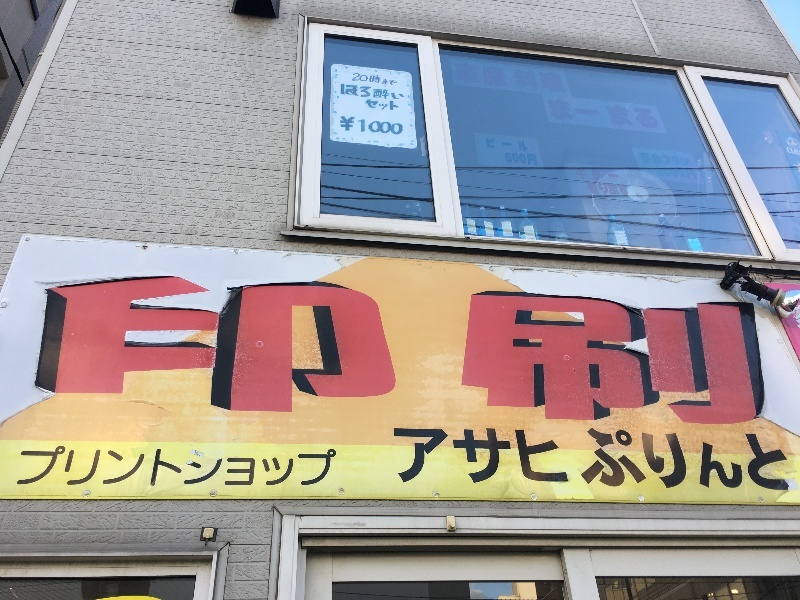text: (49, 272, 64, 429), (65, 272, 80, 429), (81, 272, 96, 429), (97, 272, 112, 429), (113, 272, 128, 429), (129, 272, 144, 429), (145, 272, 160, 429), (161, 272, 176, 429), (177, 272, 192, 429), (193, 272, 208, 429), (209, 272, 224, 429), (225, 272, 240, 429), (241, 272, 256, 429), (257, 272, 272, 429), (273, 272, 288, 429), (289, 272, 304, 429), (305, 272, 320, 429), (321, 272, 336, 429), (337, 272, 352, 429), (353, 272, 368, 429), (369, 272, 384, 429), (385, 272, 400, 429), (401, 272, 416, 429), (417, 272, 432, 429), (433, 272, 448, 429), (449, 272, 464, 429), (465, 272, 480, 429), (481, 272, 496, 429), (497, 272, 512, 429), (513, 272, 528, 429), (529, 272, 544, 429), (545, 272, 560, 429), (561, 272, 576, 429), (577, 272, 592, 429), (593, 272, 608, 429), (609, 272, 624, 429), (625, 272, 640, 429), (641, 272, 656, 429), (657, 272, 672, 429), (673, 272, 688, 429), (689, 272, 704, 429), (705, 272, 720, 429), (721, 272, 736, 429), (737, 272, 752, 429), (753, 272, 768, 429), (401, 428, 416, 493), (417, 428, 432, 493), (433, 428, 448, 493), (449, 428, 464, 493), (465, 428, 480, 493), (481, 428, 496, 493), (497, 428, 512, 493), (513, 428, 528, 493), (529, 428, 544, 493), (545, 428, 560, 493), (561, 428, 576, 493), (577, 428, 592, 493), (593, 428, 608, 493), (609, 428, 624, 493), (625, 428, 640, 493), (641, 428, 656, 493), (657, 428, 672, 493), (673, 428, 688, 493), (689, 428, 704, 493), (705, 428, 720, 493), (721, 428, 736, 493), (737, 428, 752, 493), (753, 428, 768, 493), (769, 428, 784, 493), (33, 446, 48, 487), (49, 446, 64, 487), (65, 446, 80, 487), (81, 446, 96, 487), (97, 446, 112, 487), (113, 446, 128, 487), (129, 446, 144, 487), (145, 446, 160, 487), (161, 446, 176, 487), (177, 446, 192, 487), (193, 446, 208, 487), (209, 446, 224, 487), (225, 446, 240, 487), (241, 446, 256, 487), (257, 446, 272, 487), (273, 446, 288, 487), (289, 446, 304, 487), (305, 446, 320, 487), (321, 446, 336, 487), (465, 62, 480, 93), (481, 62, 496, 93), (497, 62, 512, 93), (513, 62, 528, 93), (529, 62, 544, 93), (545, 62, 560, 93), (561, 99, 576, 129), (577, 99, 592, 129), (593, 99, 608, 129), (609, 99, 624, 129), (625, 99, 640, 129), (641, 99, 656, 129), (641, 153, 656, 180), (657, 153, 672, 180), (673, 153, 688, 180), (394, 428, 400, 493), (23, 446, 32, 487), (548, 99, 560, 129), (785, 428, 790, 493), (353, 116, 368, 136), (369, 116, 384, 136), (385, 116, 400, 136), (455, 62, 464, 93), (353, 84, 368, 101), (369, 84, 384, 101), (385, 84, 400, 101), (786, 139, 800, 157), (689, 153, 698, 180), (340, 116, 352, 136), (513, 153, 528, 167), (593, 182, 608, 196), (609, 182, 624, 196), (513, 138, 529, 151), (353, 73, 368, 86), (369, 73, 384, 86), (497, 138, 512, 151), (341, 84, 352, 101), (385, 73, 398, 86), (369, 100, 384, 111), (385, 100, 400, 111), (577, 169, 592, 180), (593, 169, 608, 180), (769, 272, 770, 429), (561, 62, 566, 93), (486, 138, 496, 151), (529, 153, 538, 167), (657, 99, 661, 129), (609, 169, 619, 180), (505, 153, 512, 167), (586, 182, 592, 196), (625, 182, 629, 196), (401, 84, 404, 101), (337, 446, 338, 487), (401, 116, 403, 136), (639, 153, 640, 180), (367, 100, 368, 111)
